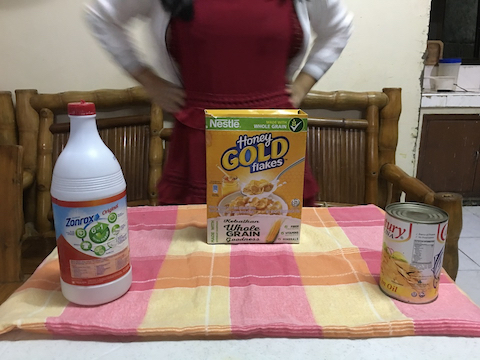bottle: (45, 97, 139, 307)
box: (201, 105, 316, 246)
can: (376, 202, 452, 305)
